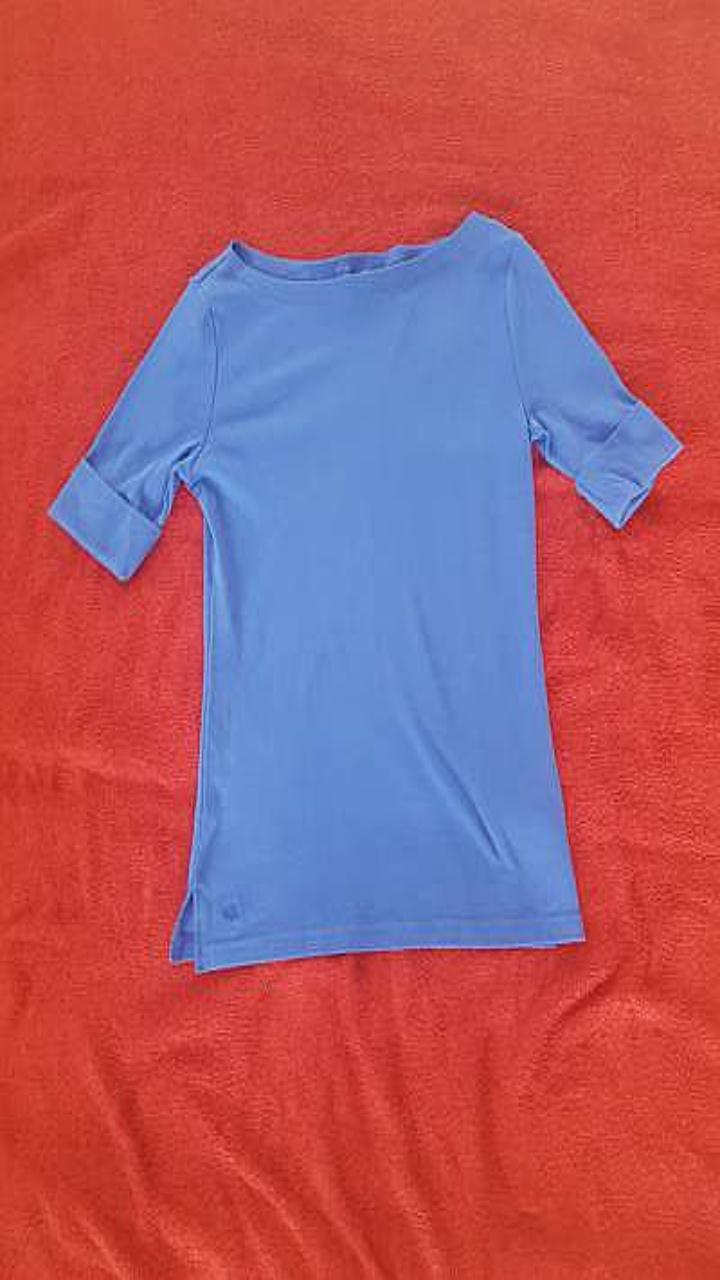T-Shirt: (48, 210, 684, 971)
